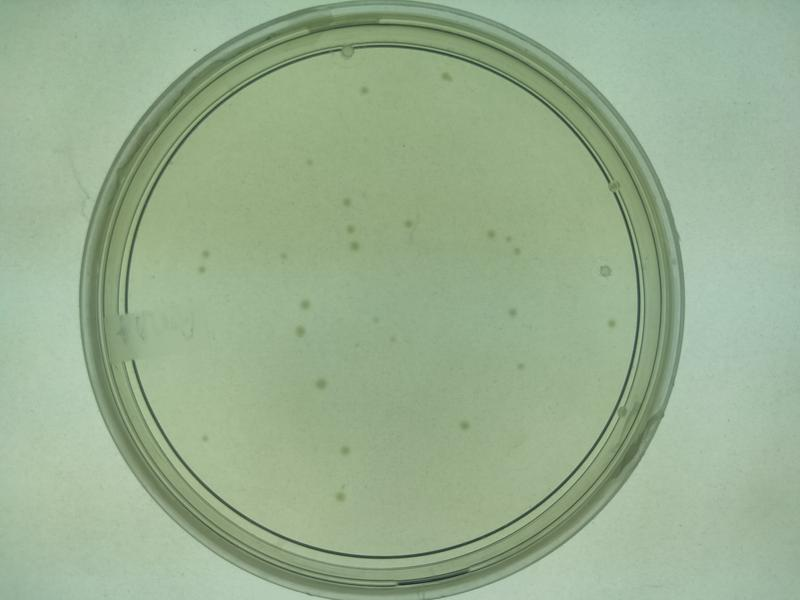colony: (455, 416, 474, 436), (334, 441, 353, 460), (294, 294, 312, 313), (400, 212, 416, 233), (480, 226, 498, 244), (343, 237, 363, 253), (309, 375, 327, 392), (503, 303, 521, 320), (353, 84, 372, 100), (511, 358, 529, 373), (604, 314, 619, 332), (294, 322, 308, 341), (197, 431, 212, 448), (440, 71, 454, 88), (339, 195, 352, 211)
